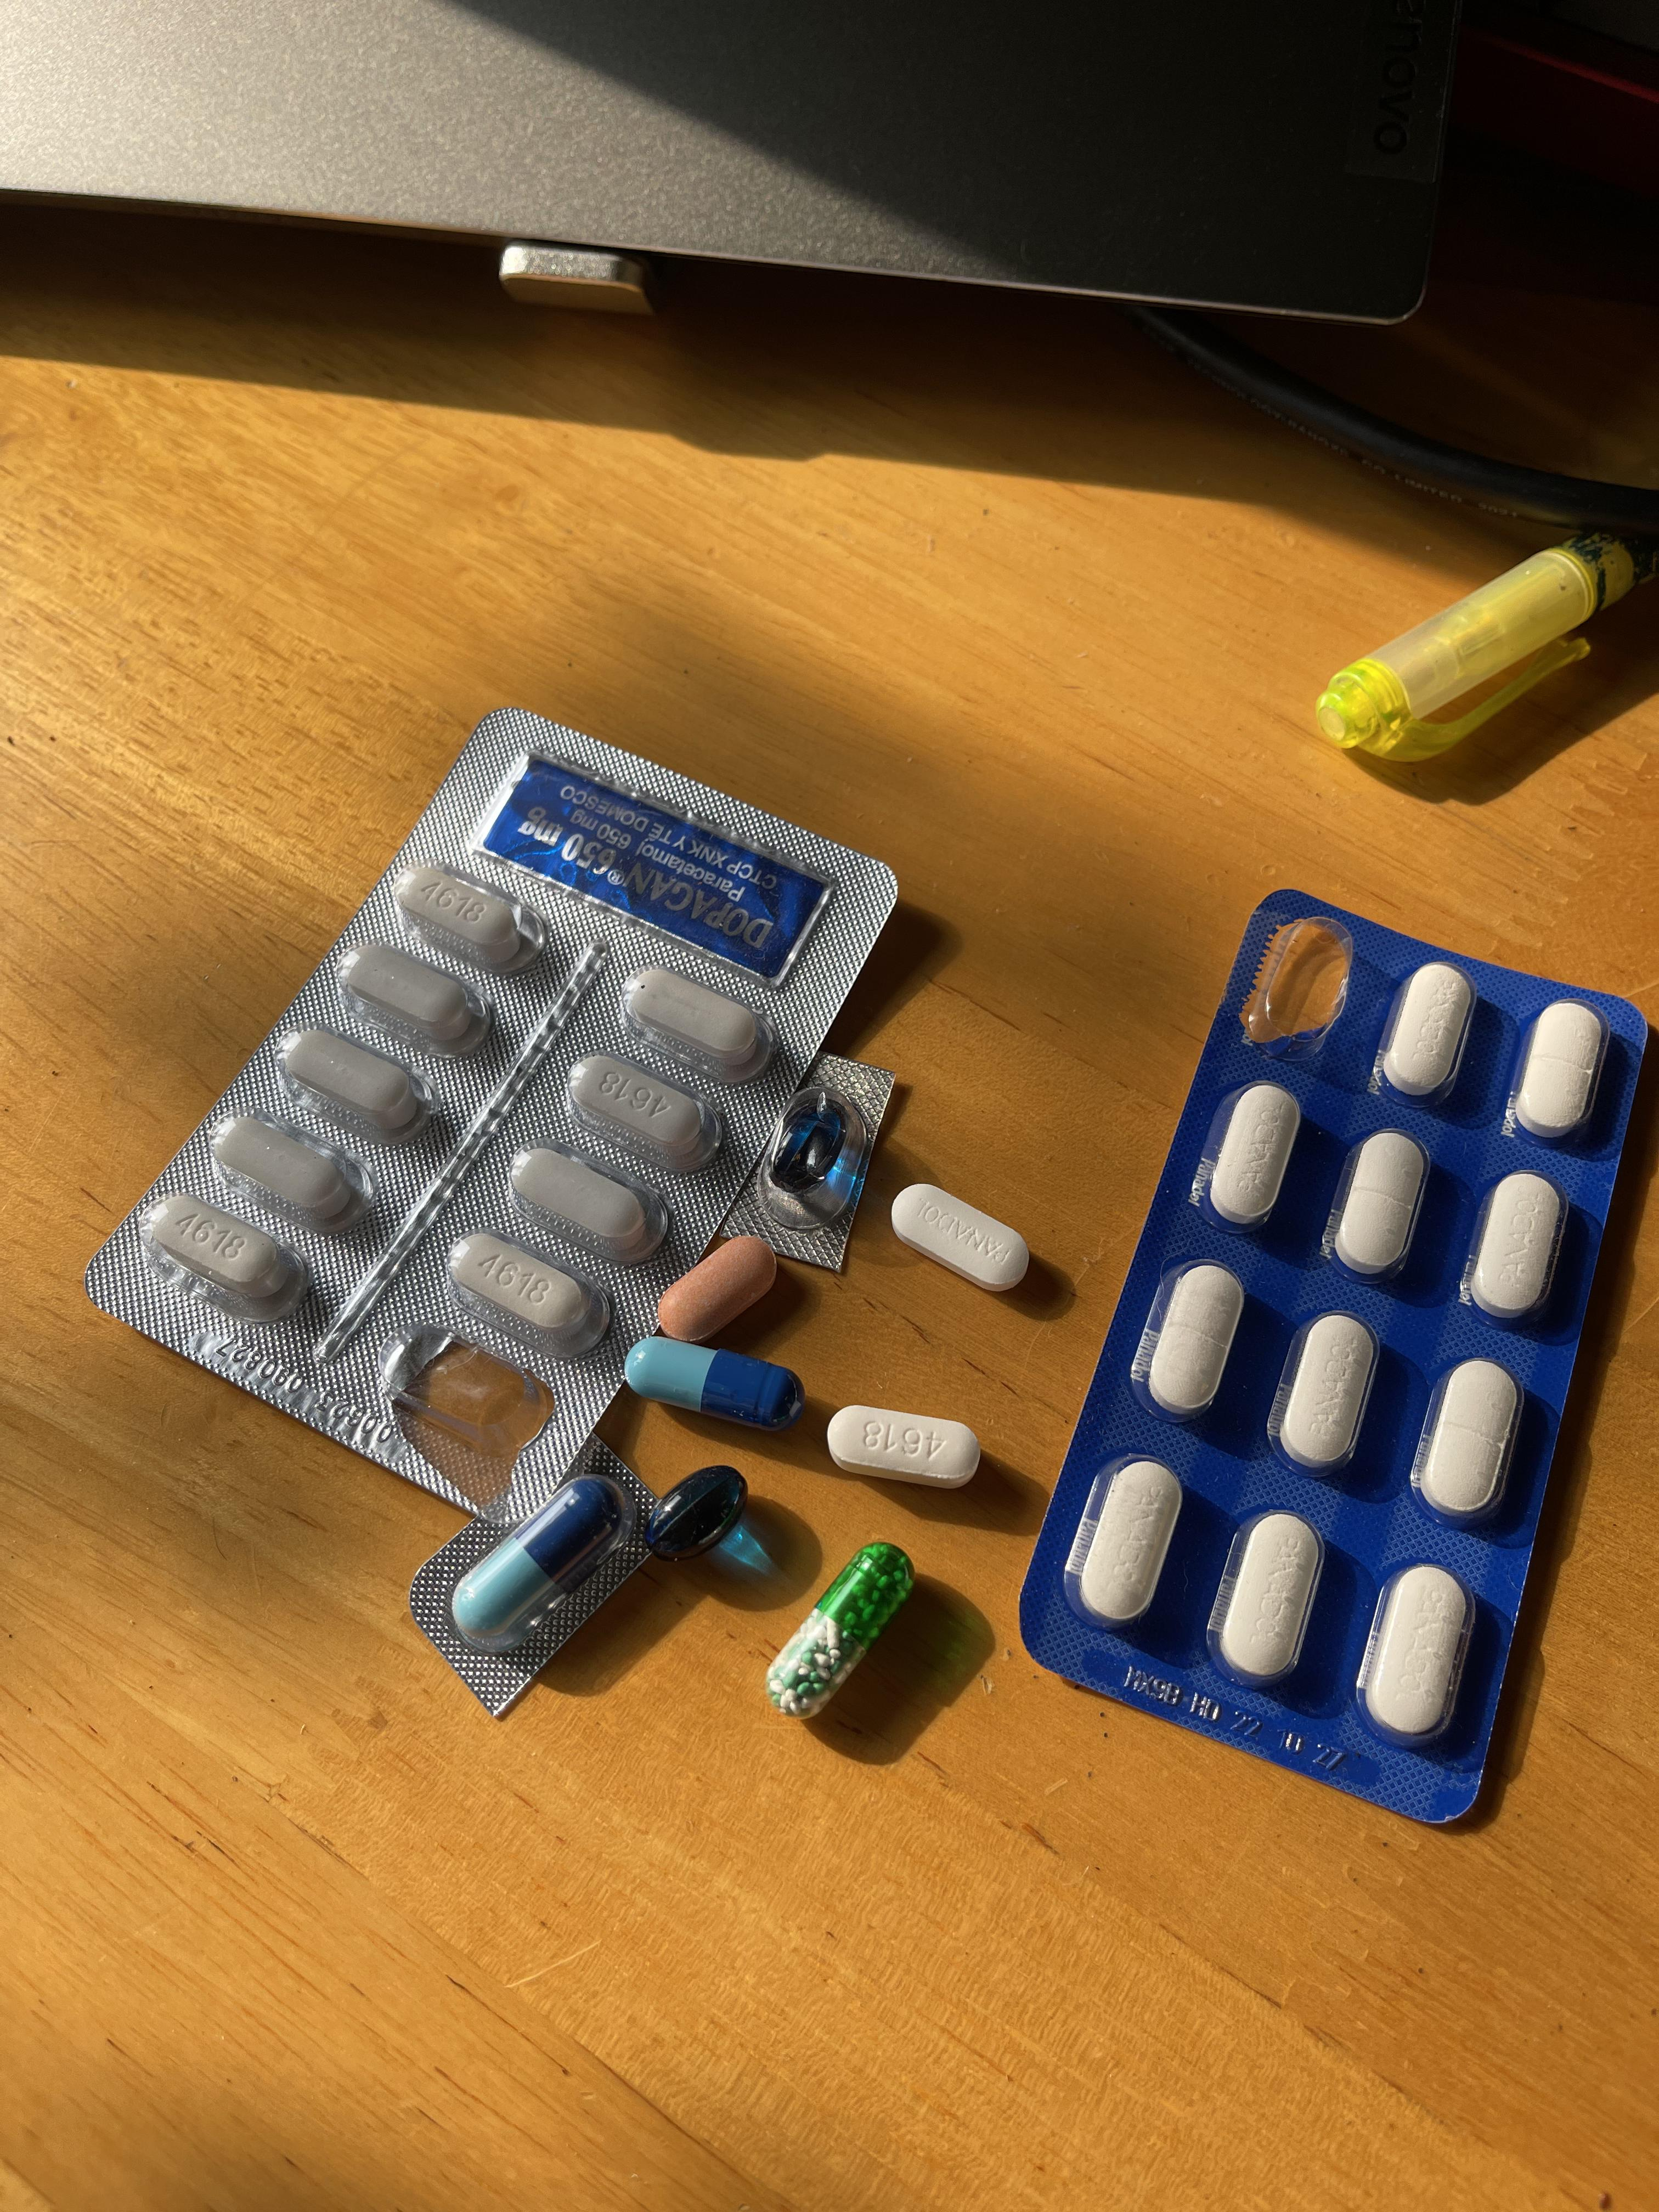Lincomyxin_500mg: (653, 1465, 744, 1557), (775, 1109, 845, 1191)
Loratadine_10mg: (655, 1233, 781, 1343)
Paracetamol_350mg: (1359, 1566, 1474, 1745), (1213, 1510, 1328, 1686), (1415, 1359, 1525, 1527), (1073, 1460, 1183, 1627), (1274, 1312, 1378, 1477), (1141, 1263, 1244, 1420), (1466, 1172, 1567, 1324), (890, 1184, 1032, 1291), (1328, 1130, 1427, 1280), (1204, 1083, 1300, 1230), (1377, 961, 1473, 1099), (1511, 1000, 1603, 1139)
Paracetamol_500mg: (209, 1111, 371, 1240), (446, 1231, 608, 1360), (563, 1057, 721, 1183), (509, 1144, 657, 1263), (279, 1024, 429, 1141), (626, 967, 774, 1082), (401, 862, 537, 972), (342, 944, 488, 1045), (824, 1404, 978, 1486)
Paracetamol_650mg: (770, 1541, 915, 1716)
pill: (450, 1477, 617, 1641), (620, 1336, 796, 1426)
